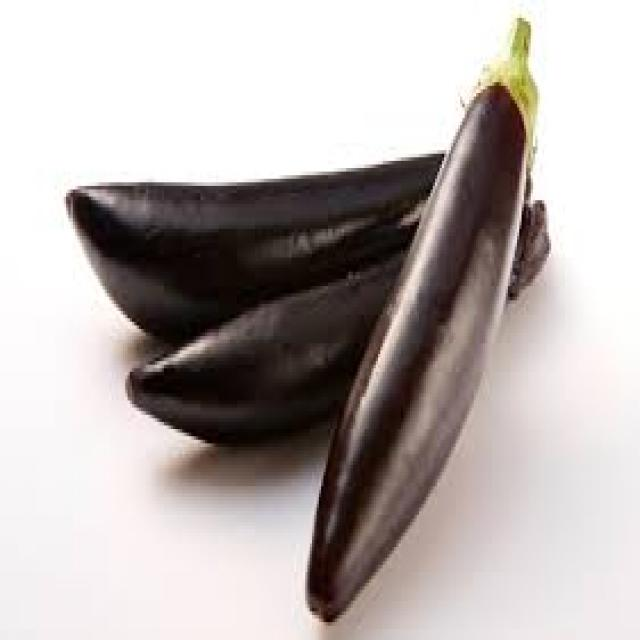Eggplant: (304, 16, 539, 622)
